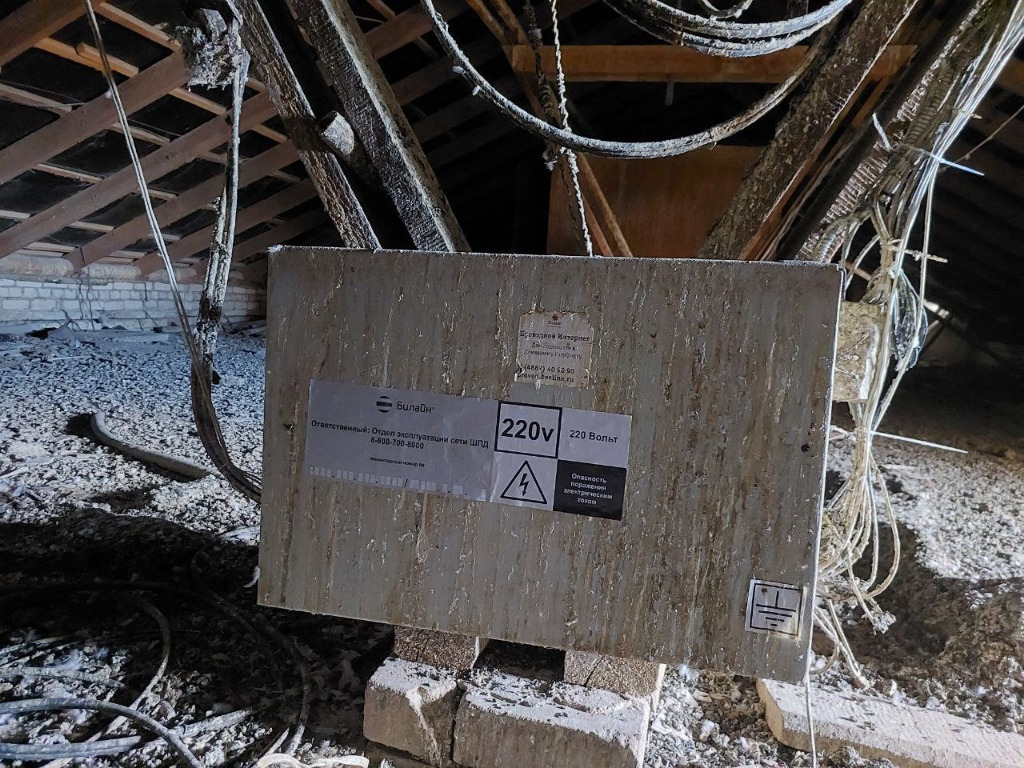sv-5: (250, 240, 845, 687)
